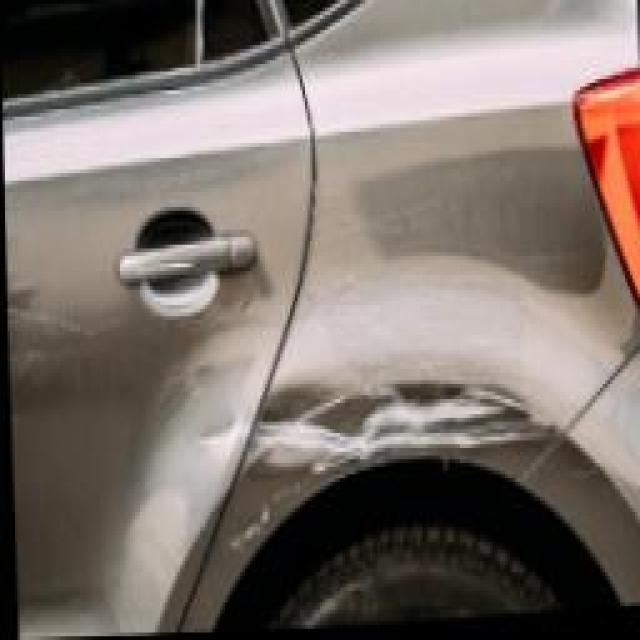Door: (5, 230, 250, 475)
Fender: (200, 166, 568, 574)
